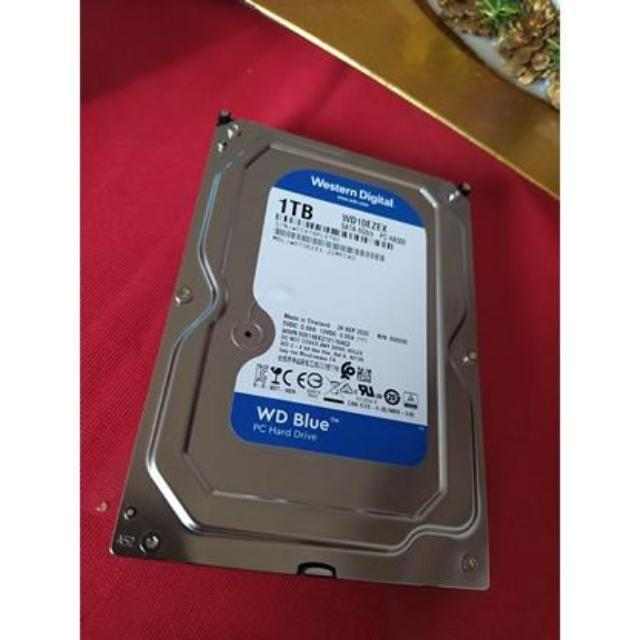DISK: (104, 108, 496, 594)
